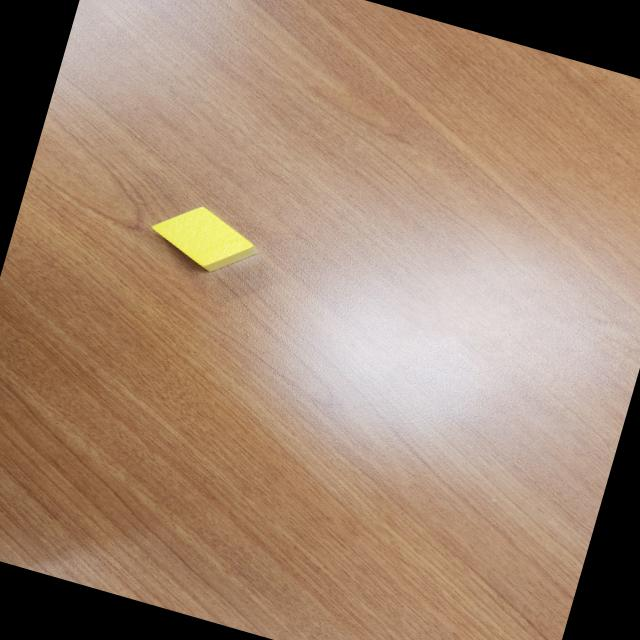yellow: (142, 194, 264, 282)
